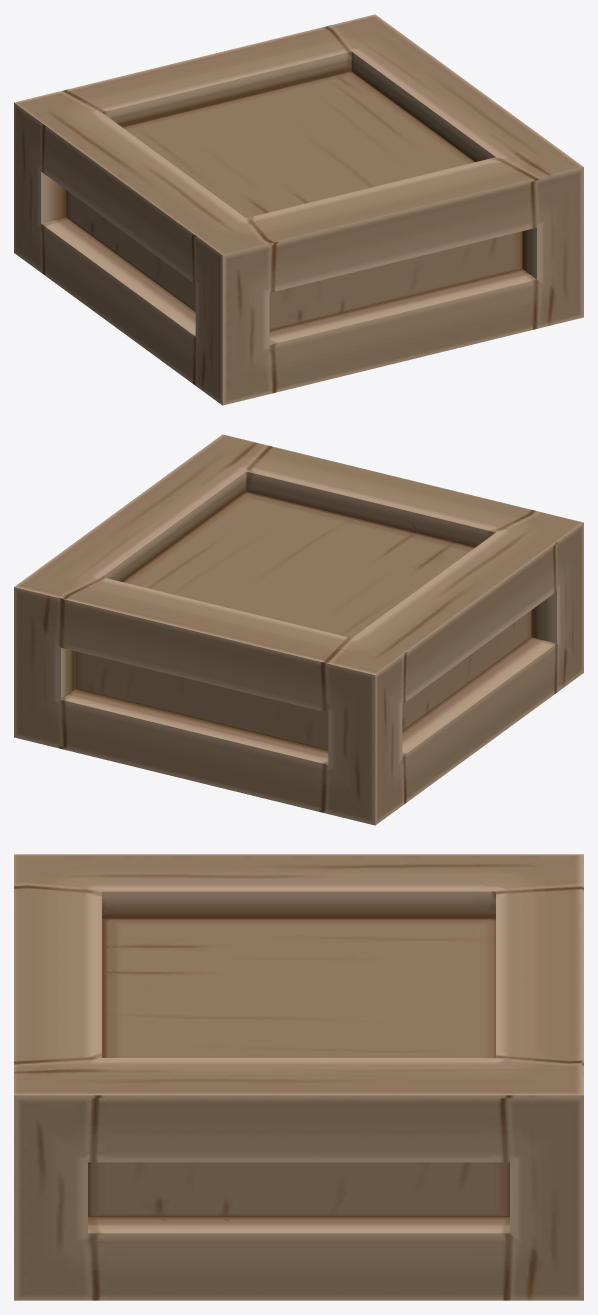
File: Arctic_Table.fbx
The picture shows the model from 3 angles, top to bottom: view 1: azimuth 30°, elevation 25°; view 2: azimuth 150°, elevation 25°; view 3: azimuth 270°, elevation 25°; orthographic projection. The views are drawn at different scales.
Visible parts, largest first — view 1: Arctic_Table; view 2: Arctic_Table; view 3: Arctic_Table.
Part boxes in pixels (left/top/right/bottom): Arctic_Table: left=14, top=14, right=583, bottom=405; Arctic_Table: left=14, top=434, right=583, bottom=825; Arctic_Table: left=14, top=854, right=583, bottom=1300.
Bounding box in the file's own units: 1 × 0.3976 × 1.
Materials: 1 (1 with a texture image).
